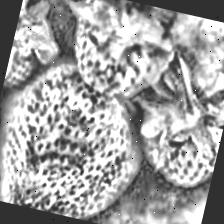Powdery Mildew Fruit: (0, 43, 158, 224), (52, 0, 186, 110), (120, 55, 224, 193)
